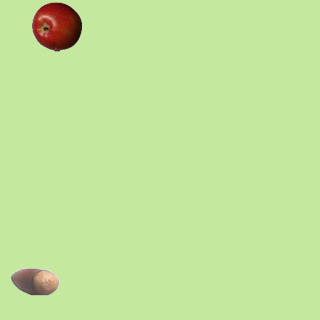Apple Braeburn: (31, 1, 81, 51)
Hazelnut: (9, 256, 59, 306)
